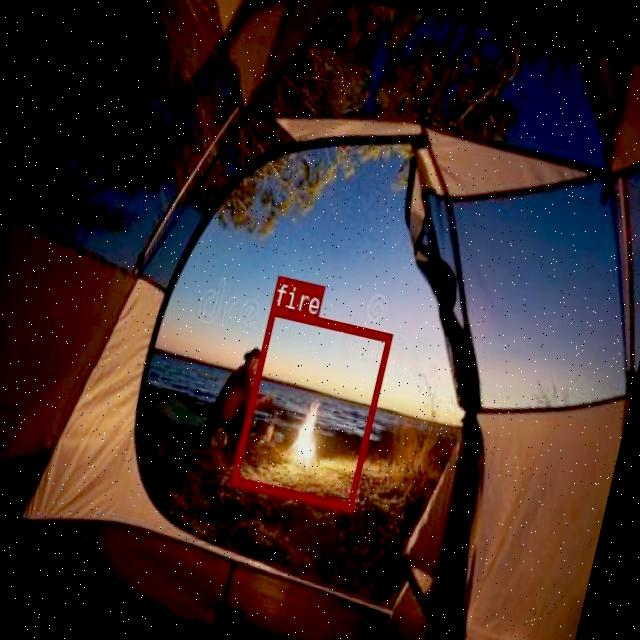fire: (228, 304, 392, 510)
